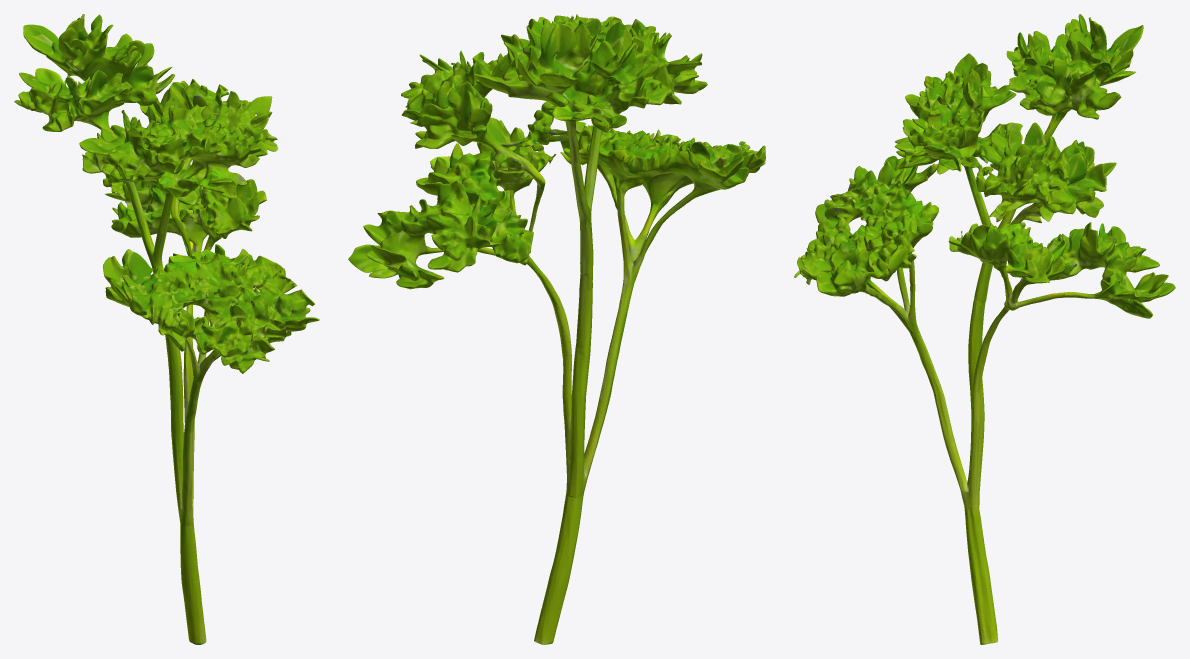
The model's file is parsley.glb.
3 views of the same model, side by side, from view 1: azimuth 30°, elevation 25°; view 2: azimuth 150°, elevation 25°; view 3: azimuth 270°, elevation 25° (orthographic). The views are drawn at different scales.
Parts seen in each view (by area): view 1: tripo_node_79bd760d-6508-4fa5-bf61-31af8bb9e070; view 2: tripo_node_79bd760d-6508-4fa5-bf61-31af8bb9e070; view 3: tripo_node_79bd760d-6508-4fa5-bf61-31af8bb9e070.
Boxes of the visible parts, x1,y1,x2,y2 form: tripo_node_79bd760d-6508-4fa5-bf61-31af8bb9e070: (14, 14, 319, 644); tripo_node_79bd760d-6508-4fa5-bf61-31af8bb9e070: (348, 14, 765, 644); tripo_node_79bd760d-6508-4fa5-bf61-31af8bb9e070: (794, 14, 1175, 644).
Size of the model in its own units: 0.3971 by 1 by 0.5842.
Materials: 1 (1 with a texture image).
